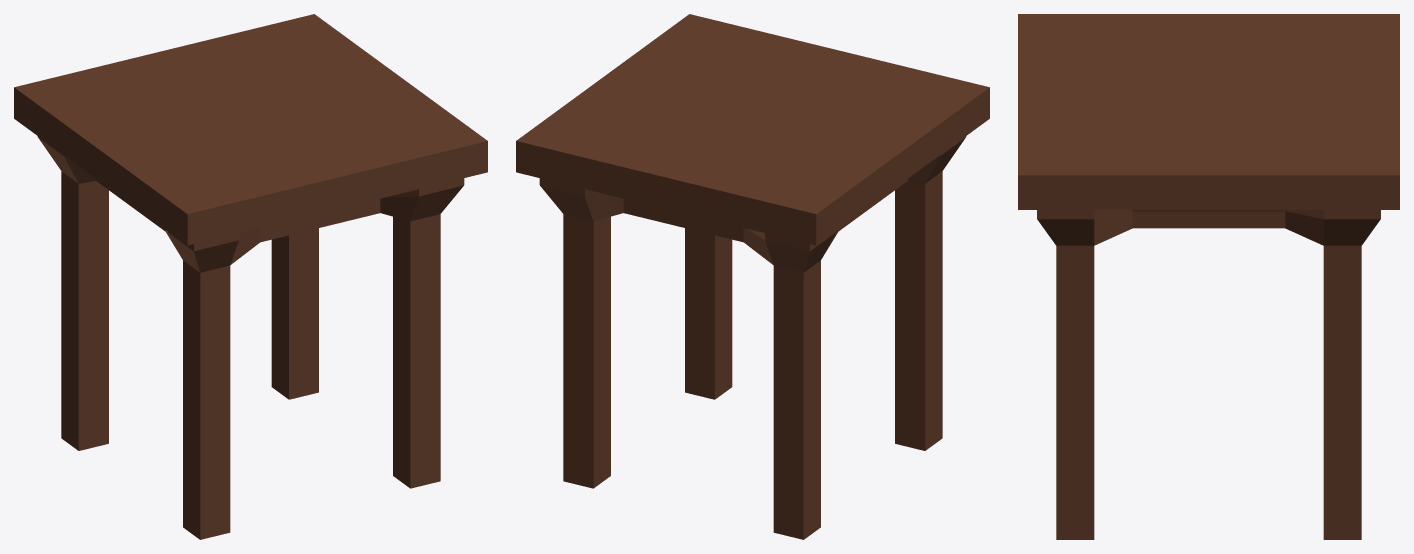
The model's file is table.gltf.
3 renders of one model, left to right at view 1: azimuth 30°, elevation 25°; view 2: azimuth 150°, elevation 25°; view 3: azimuth 270°, elevation 25°, orthographic. The views are drawn at different scales.
Parts seen in each view (by area): view 1: tabletop, leg (×4), support (×2); view 2: tabletop, leg (×4), support (×2); view 3: tabletop, leg (×2), support.
Boxes of the visible parts, <box> form: tabletop: <box>14,14,487,245</box>; leg (×4): <box>37,136,464,539</box>; support (×2): <box>63,155,418,264</box>; tabletop: <box>516,14,989,245</box>; leg (×4): <box>539,136,966,539</box>; support (×2): <box>585,155,940,264</box>; tabletop: <box>1018,14,1399,209</box>; leg (×2): <box>1037,210,1380,539</box>; support: <box>1094,210,1323,245</box>.
Size of the model in its own units: 1.25 by 1.38 by 1.25.
Materials: 1 (1 with a texture image).
